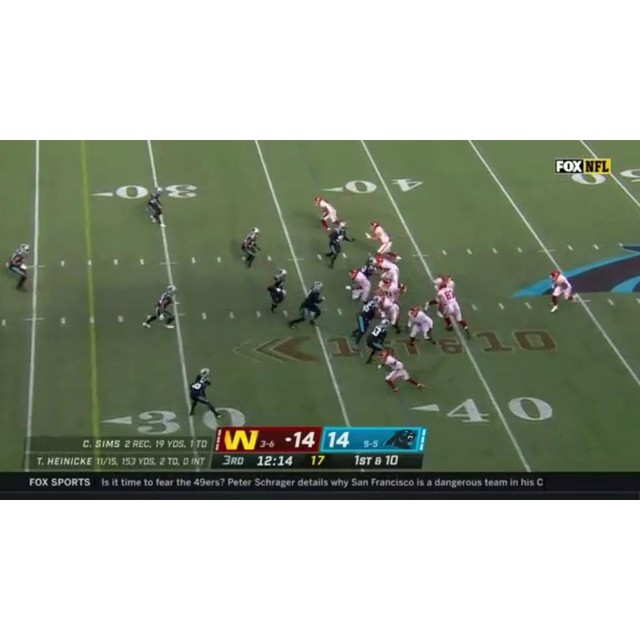american-football-player: (378, 348, 425, 395), (436, 281, 471, 337), (288, 281, 326, 330), (350, 296, 382, 351), (317, 222, 353, 270), (188, 368, 221, 420), (143, 285, 178, 330), (407, 304, 436, 351), (363, 319, 391, 366), (548, 268, 577, 313), (5, 243, 31, 291), (313, 196, 346, 232), (266, 269, 288, 315), (240, 226, 262, 270), (379, 293, 402, 335), (347, 267, 373, 304), (367, 220, 393, 256), (375, 254, 402, 287), (146, 188, 167, 228)
